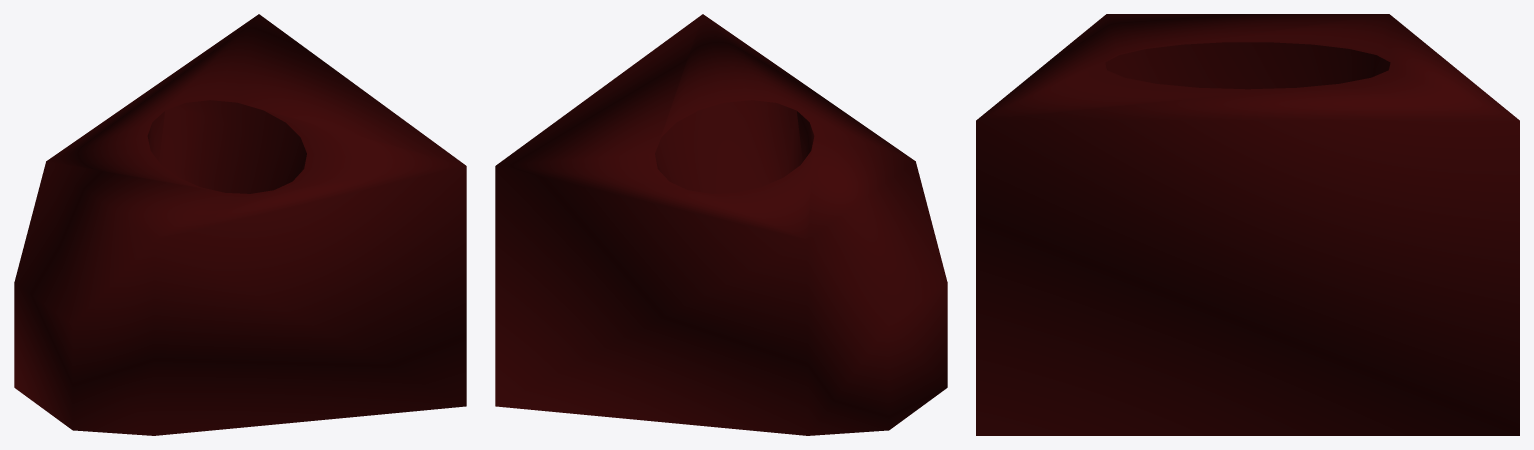
Rendered from Razor stand.fbx.
The picture shows the model from 3 angles, left to right: view 1: azimuth 30°, elevation 25°; view 2: azimuth 150°, elevation 25°; view 3: azimuth 270°, elevation 25°; orthographic projection. The views are drawn at different scales.
Visible parts, largest first — view 1: pCube2; view 2: pCube2; view 3: pCube2.
Part boxes in pixels (box(x1,y1,x2,y2)): pCube2: box(14, 14, 466, 435); pCube2: box(495, 14, 947, 435); pCube2: box(976, 14, 1519, 435).
Bounding box in the file's own units: 3.87 × 2.81 × 4.36.
